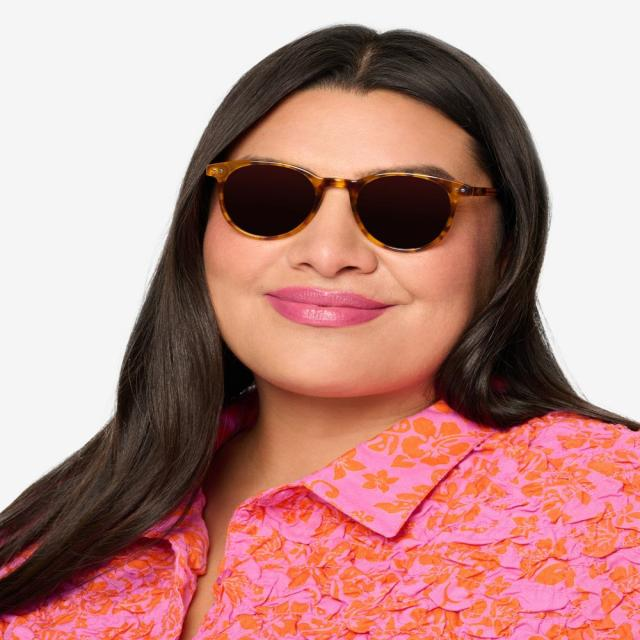2_gafas: (203, 158, 500, 254)
